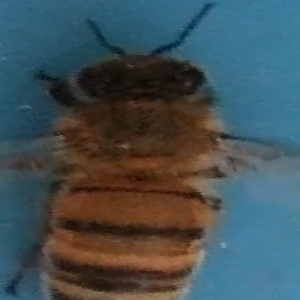bee: (18, 19, 292, 300)
